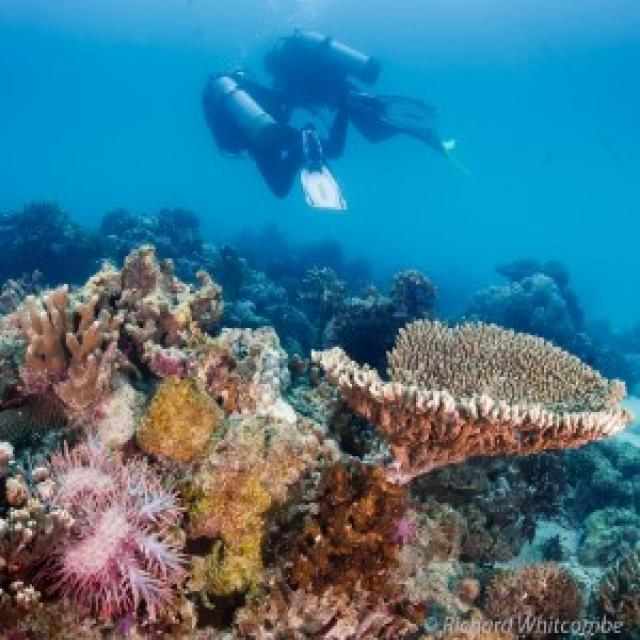Healthy: (12, 248, 338, 604), (312, 322, 630, 483), (204, 34, 447, 208), (35, 436, 182, 620)
